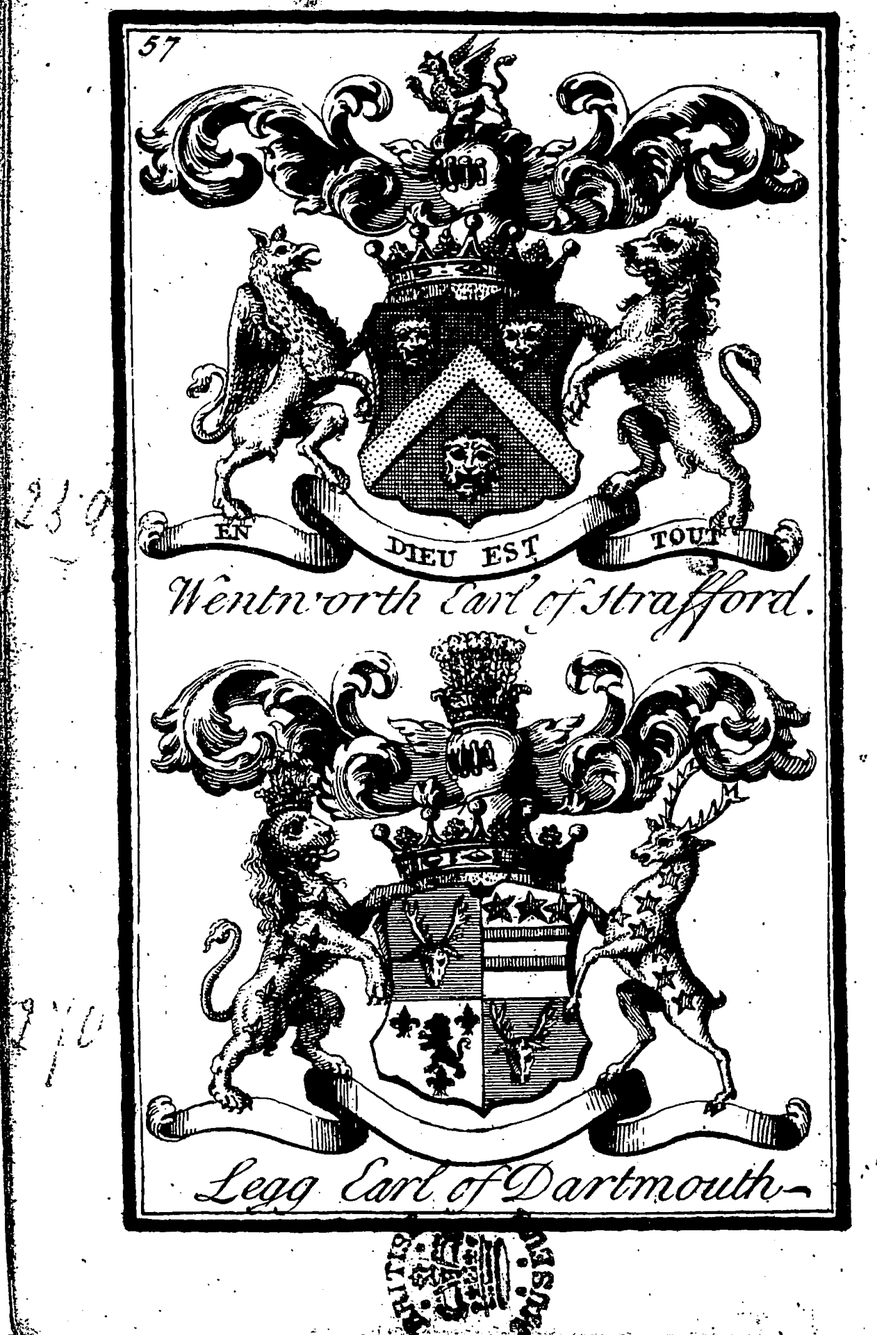coat_of_arms: (142, 38, 831, 616), (149, 624, 817, 1208)
